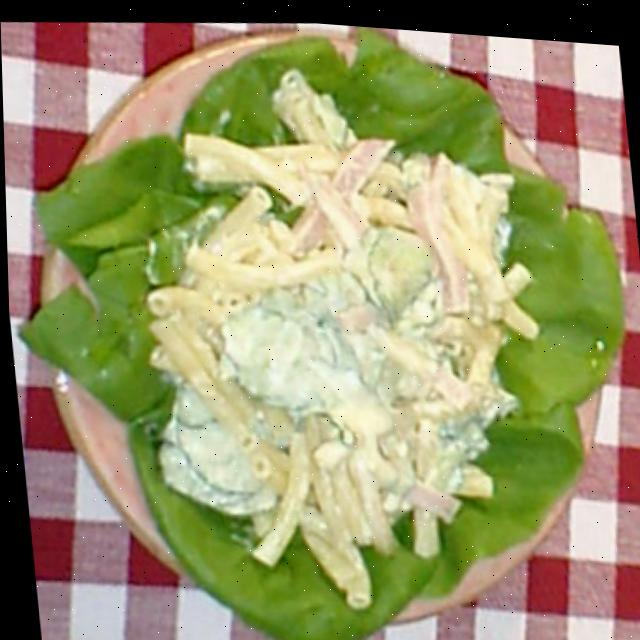蔬菜料理: (19, 1, 636, 640)
